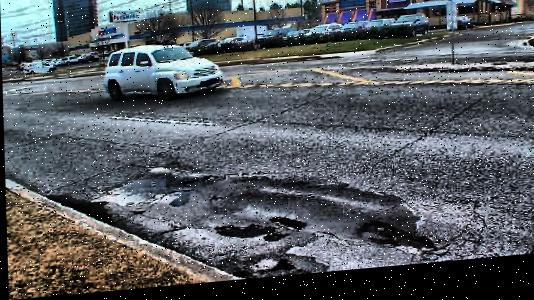pothole: (129, 156, 416, 236), (210, 213, 506, 285), (356, 221, 436, 267), (268, 216, 304, 237), (199, 175, 216, 187), (177, 180, 194, 189)
